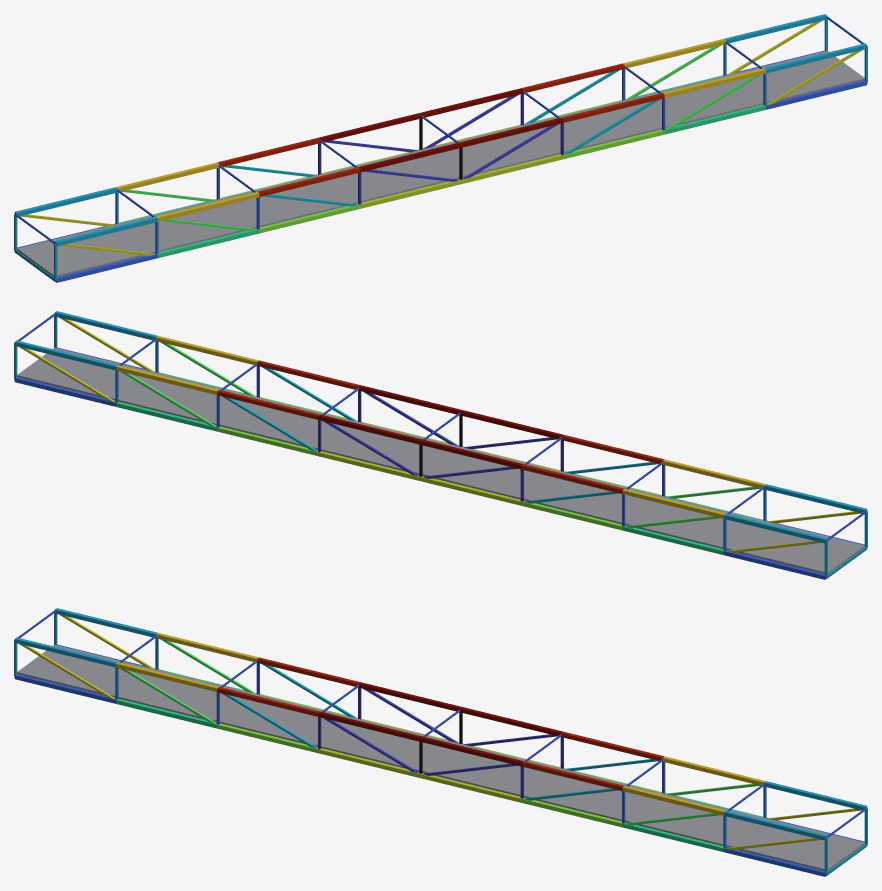
Rendered from 35_1.5_8_HEA240.glb.
3 renders of one model, top to bottom at view 1: azimuth 30°, elevation 25°; view 2: azimuth 150°, elevation 25°; view 3: azimuth 330°, elevation 25°, orthographic.
Bounding box in the file's own units: 35.09 × 1.66 × 3.16.
